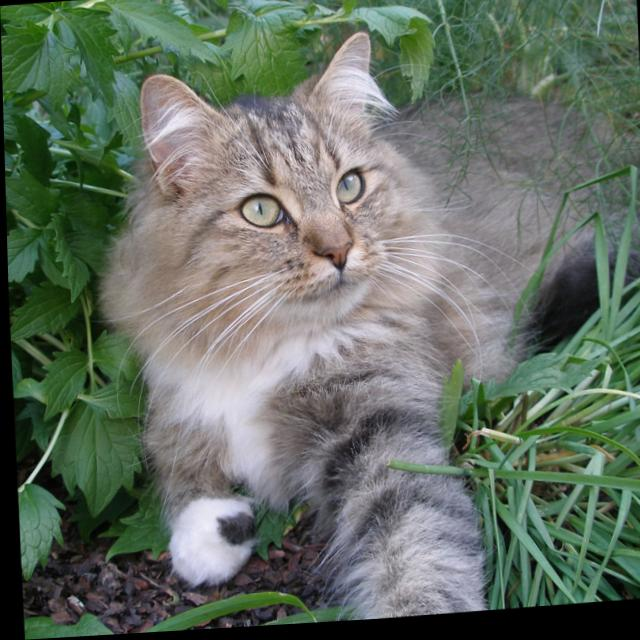animals: (150, 38, 372, 284)
